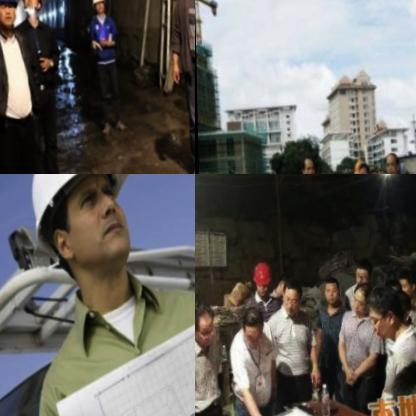helmet: (13, 174, 148, 308), (248, 263, 276, 301), (0, 0, 21, 31), (20, 0, 45, 19), (86, 0, 107, 15), (352, 157, 362, 174)
